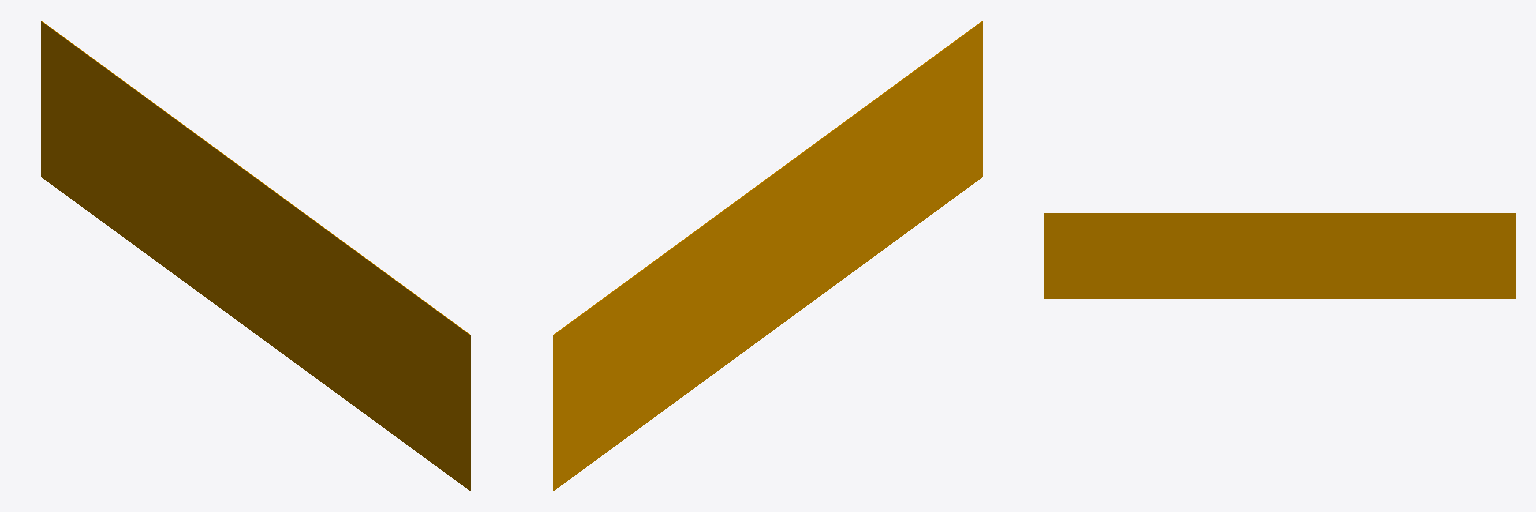
robot.urdf — front_wall:
<?xml version='1.0' encoding='UTF-8'?>
<robot name="front_wall">
  <link name="base_link">
    <inertial>
      <origin xyz="0.0 0.0 0.0" rpy="0.0 -0.0 0.0"/>
      <mass value="1.0"/>
      <inertia ixx="1.0" ixy="0.0" ixz="0.0" iyy="1.0" iyz="0.0" izz="1.0"/>
    </inertial>
    <visual name="base_link_visual">
      <geometry>
        <box size="0.1 100 20"/>
      </geometry>
      <origin xyz="0 5.0 -5.0" rpy="3.14159 3.14159 0"/>
    </visual>
    <collision name="base_link_collision">
      <geometry>
        <box size="0.1 100 20"/>
      </geometry>
      <origin xyz="0 5.0 -5.0" rpy="3.14159 3.14159 0"/>
    </collision>
  </link>
</robot>

--- What the picture shows (computed from the rendered views, not written in the file) ---
The picture shows the robot from 3 angles, left to right: view 1: azimuth 30°, elevation 25°; view 2: azimuth 150°, elevation 25°; view 3: azimuth 270°, elevation 25°; orthographic projection.
Model front_wall with 1 links and 0 joints (none), rooted at base_link, posed every joint at zero.
Visible links, largest first — view 1: base_link; view 2: base_link; view 3: base_link.
Link boxes in pixels (x1,y1,x2,y2): base_link: (41, 21, 470, 490); base_link: (553, 21, 982, 490); base_link: (1044, 213, 1515, 298).
Bounding box of the posed robot: 0.1001 × 100 × 20 m (x, y, z).
Geometry: primitives only (box / cylinder / sphere), no mesh files.